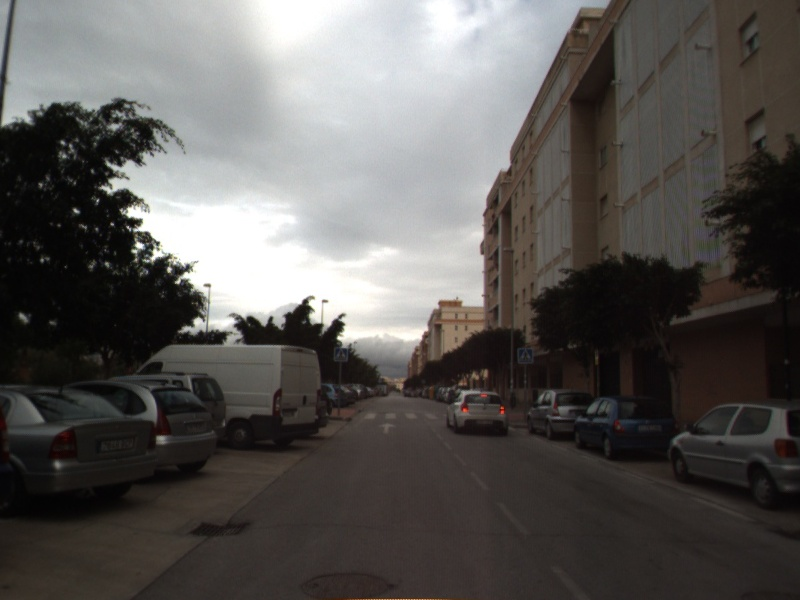STRAIGHT: (376, 421, 398, 435)
